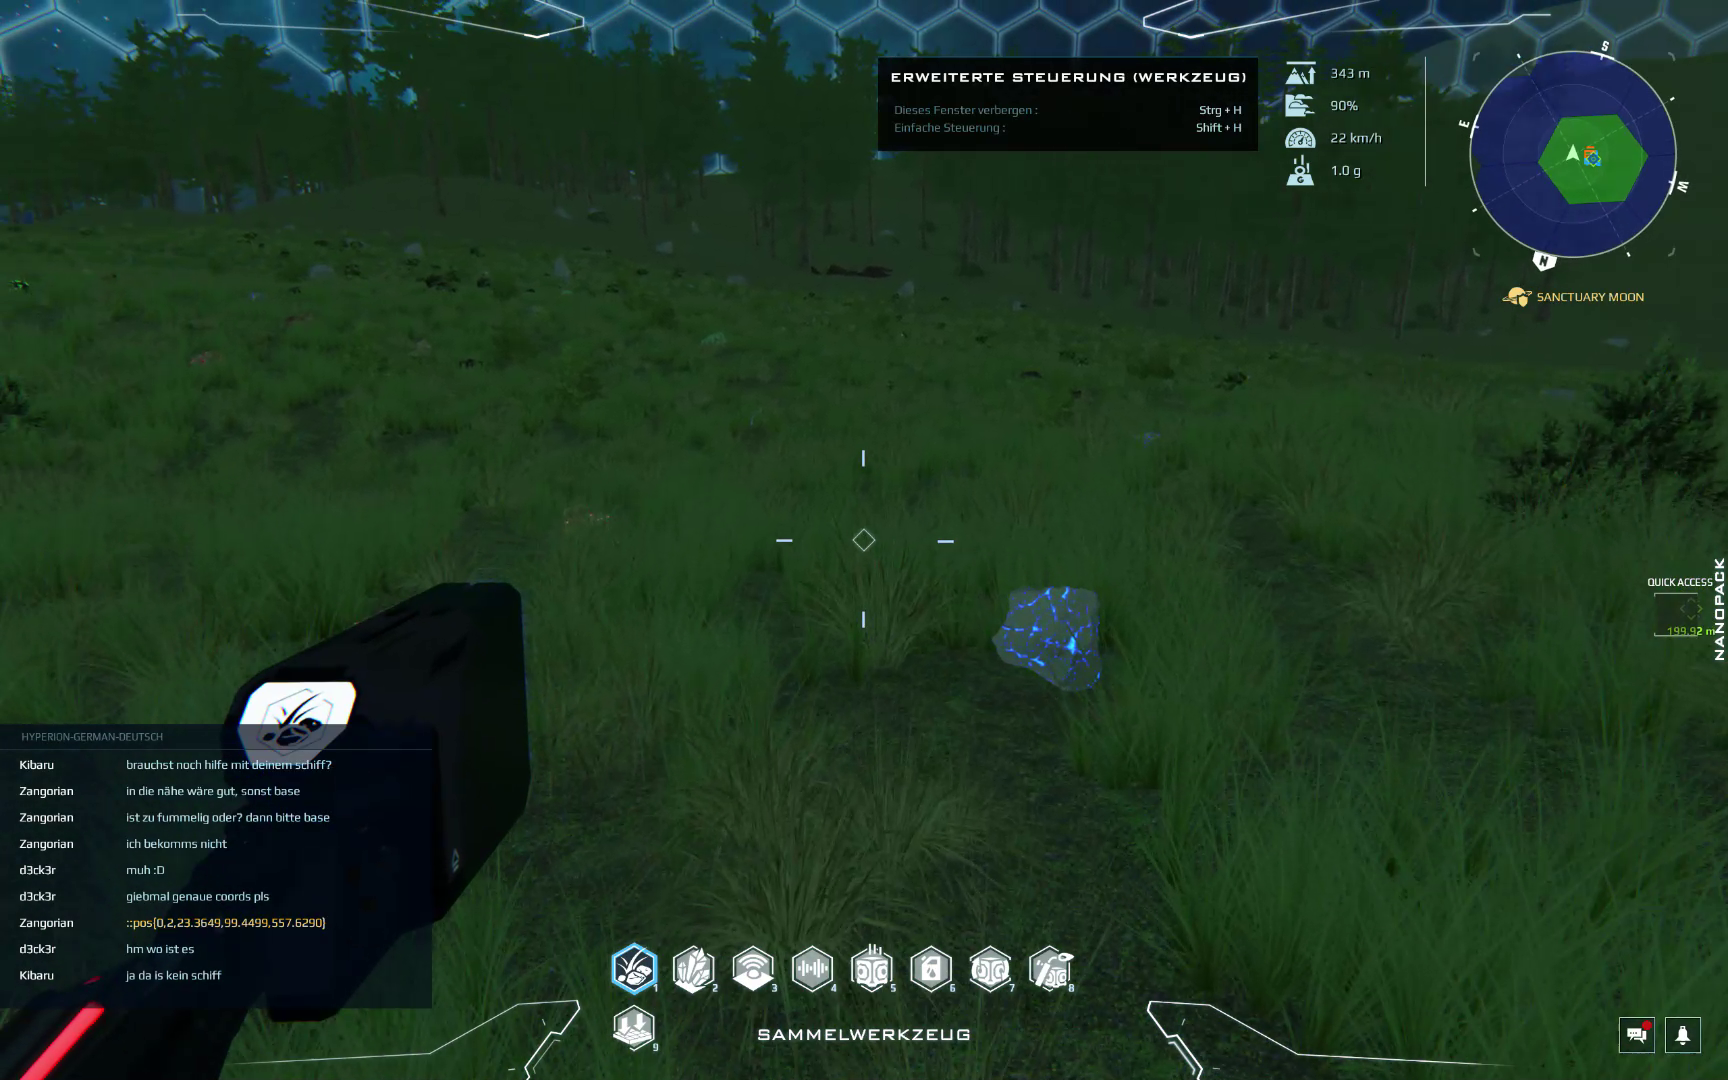Ore: (985, 584, 1106, 696), (554, 496, 616, 546)
